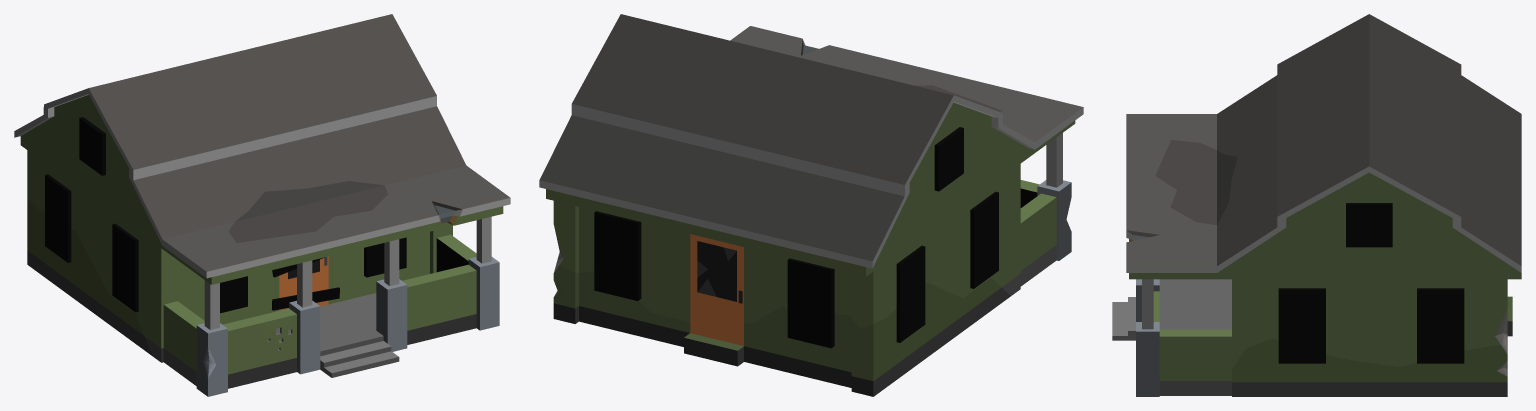
Rendered from SA_Bld_HouseSmallA_Damaged_02.gltf.
3 renders of one model, left to right at view 1: azimuth 30°, elevation 25°; view 2: azimuth 150°, elevation 25°; view 3: azimuth 270°, elevation 25°, orthographic. The views are drawn at different scales.
Visible parts, largest first — view 1: SA_Bld_HouseSmallA_Damaged_02; view 2: SA_Bld_HouseSmallA_Damaged_02; view 3: SA_Bld_HouseSmallA_Damaged_02.
Part boxes in pixels (bbox=[...]): SA_Bld_HouseSmallA_Damaged_02: bbox=[14, 14, 510, 396]; SA_Bld_HouseSmallA_Damaged_02: bbox=[539, 14, 1083, 396]; SA_Bld_HouseSmallA_Damaged_02: bbox=[1112, 14, 1521, 396].
Size of the model in its own units: 14.19 by 10.14 by 16.1.
1 material, 1 textured.
